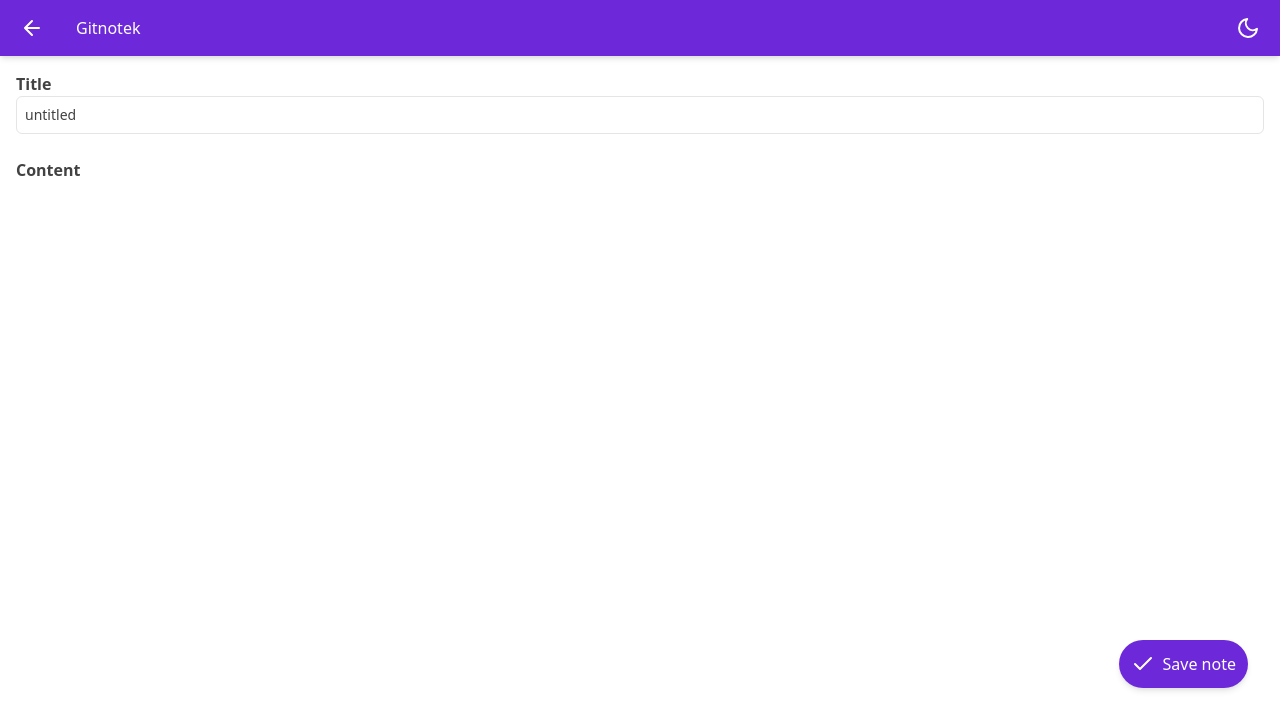
it: Create Notes › should allow user to edit title
The image size is (1280, 720).
Step 1. Replace the text in the field labelled "Title" with "Random file name" → x=640, y=115, box [16,96,1264,134]
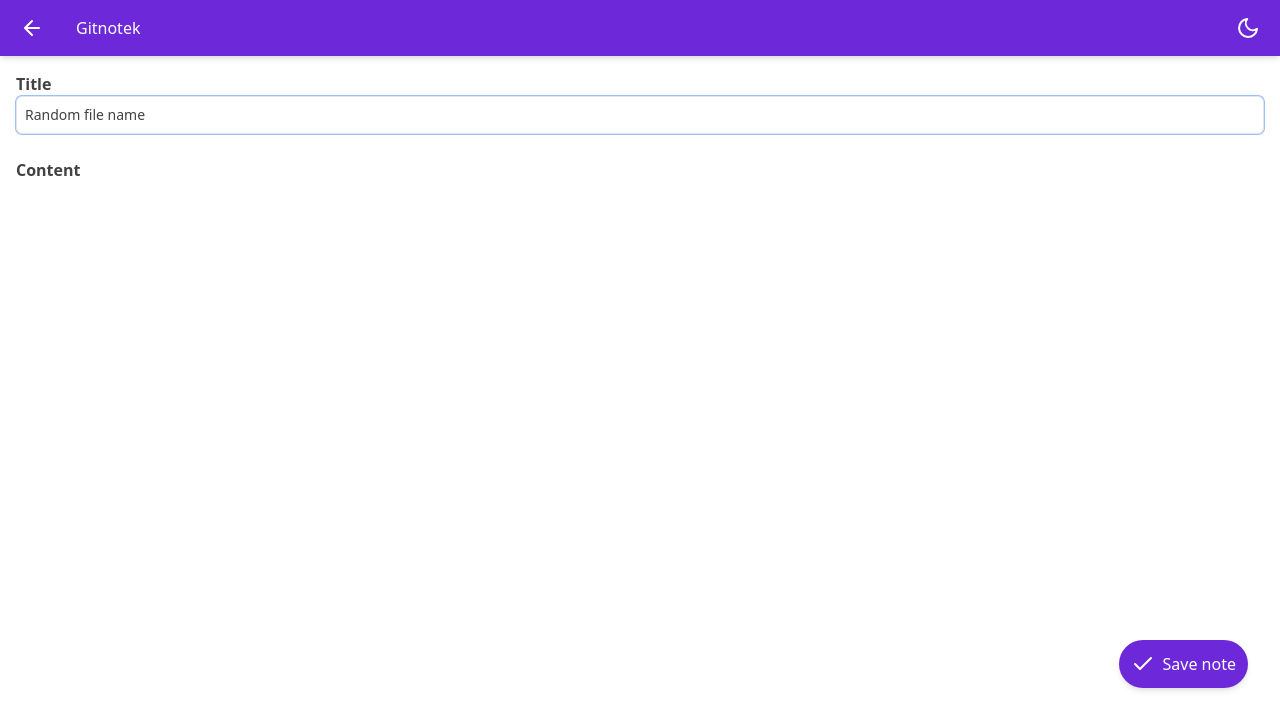
Expected: the field labelled "Title" holds "Random file name", [16,96,1264,134]
